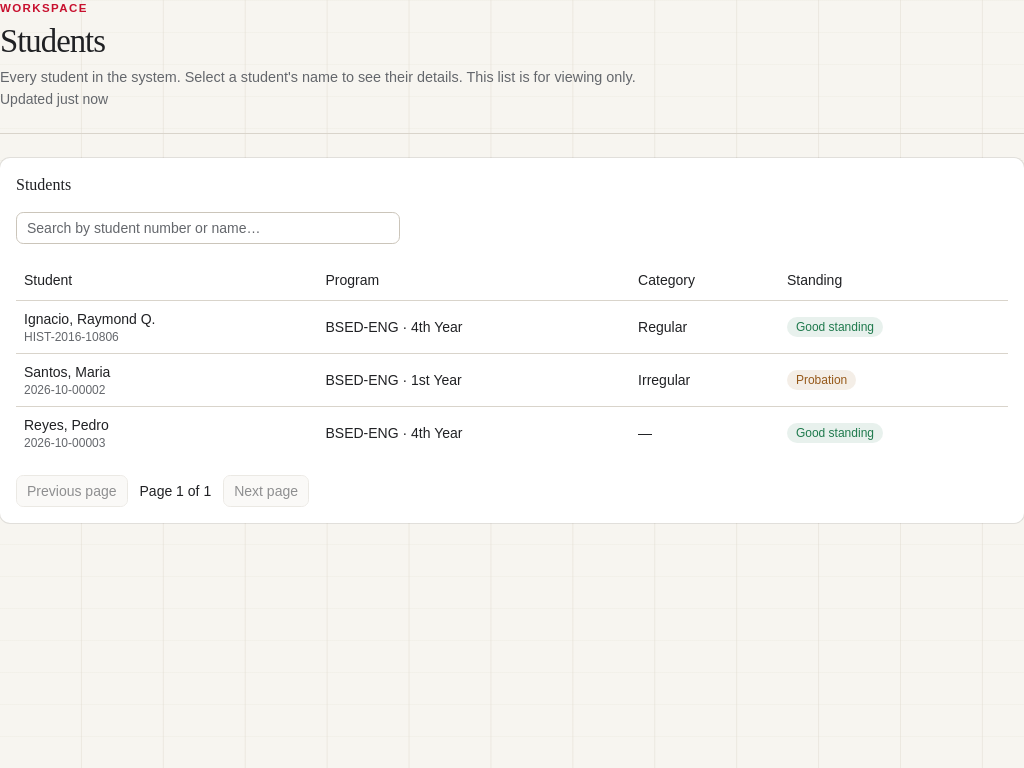
it: RegistrarStudentsWorkspace › opens the student's details when the Registrar Head selects the name
This screenshot has width=1024, height=768.
Click the button "Ignacio, Raymond Q.".
click(90, 319)  # box [24,309,156,329]
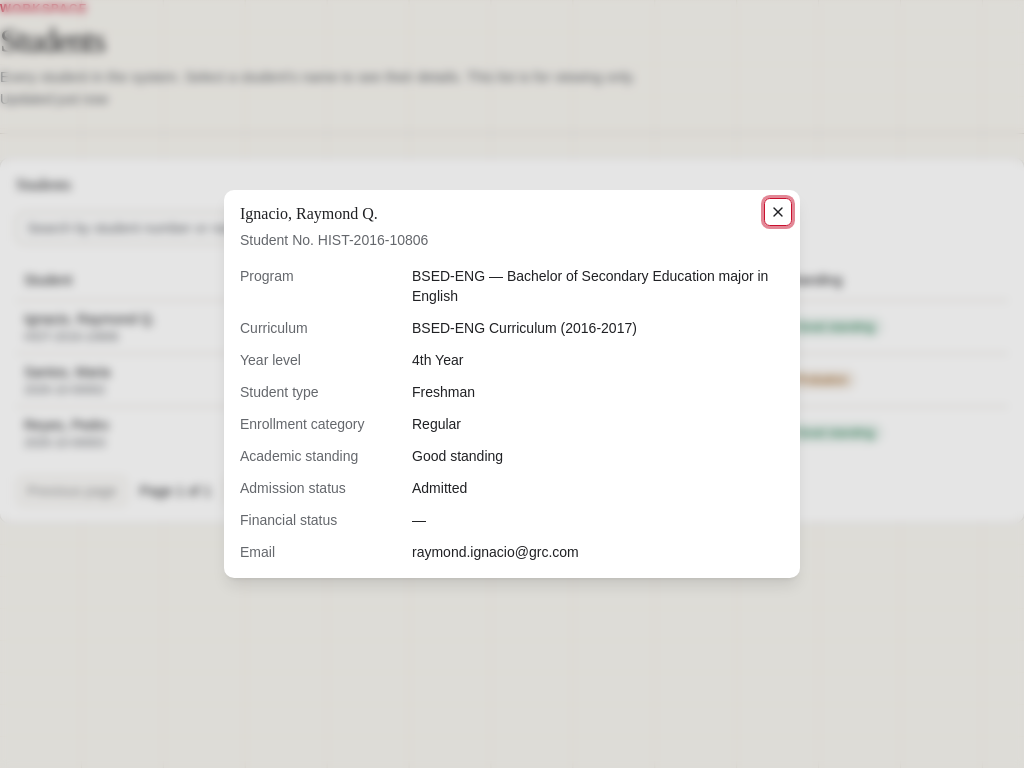
Now the dialog "Ignacio, Raymond Q." is shown, box [224,190,800,578]
